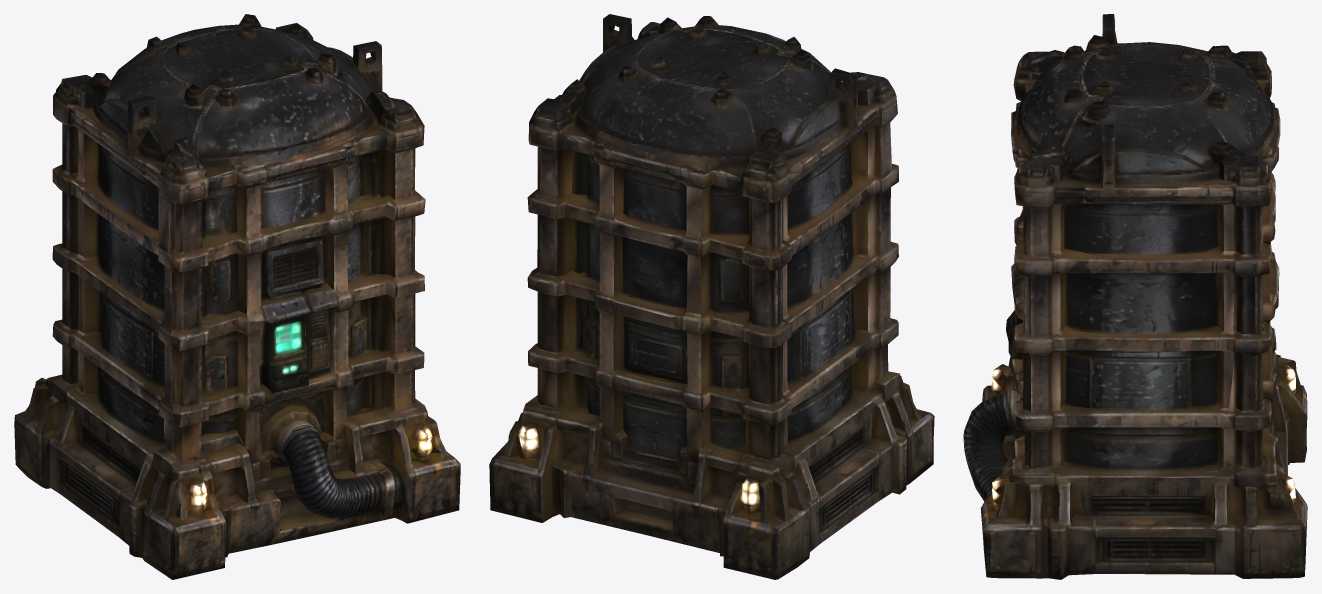
File: tower_tank.glb
The picture shows the model from 3 angles, left to right: view 1: azimuth 30°, elevation 25°; view 2: azimuth 150°, elevation 25°; view 3: azimuth 270°, elevation 25°; orthographic projection.
Parts seen in each view (by area): view 1: tower_tank; view 2: tower_tank; view 3: tower_tank.
Boxes of the visible parts, bbox=[...] form: tower_tank: bbox=[14, 14, 460, 579]; tower_tank: bbox=[489, 14, 934, 579]; tower_tank: bbox=[963, 14, 1307, 579].
Size of the model in its own units: 3.97 by 5.61 by 3.94.
Materials: 1 (1 with a texture image).
